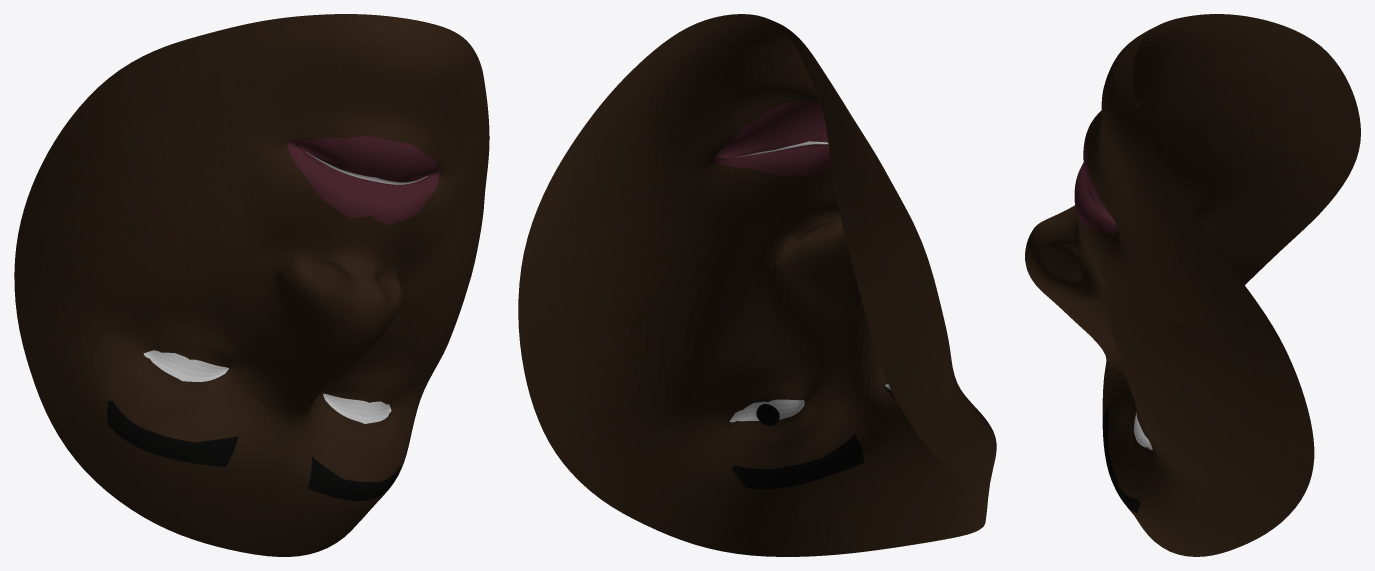
File: annoyed2.obj
The picture shows the model from 3 angles, left to right: view 1: azimuth 30°, elevation 25°; view 2: azimuth 150°, elevation 25°; view 3: azimuth 270°, elevation 25°; orthographic projection. The views are drawn at different scales.
Parts seen in each view (by area): view 1: face_mesh_subdivided; view 2: face_mesh_subdivided; view 3: face_mesh_subdivided.
Boxes of the visible parts, x1,y1,x2,y2 form: face_mesh_subdivided: (14, 14, 489, 556); face_mesh_subdivided: (518, 14, 996, 556); face_mesh_subdivided: (1025, 14, 1360, 556).
Bounding box in the file's own units: 0.637 × 0.7402 × 0.4364.
